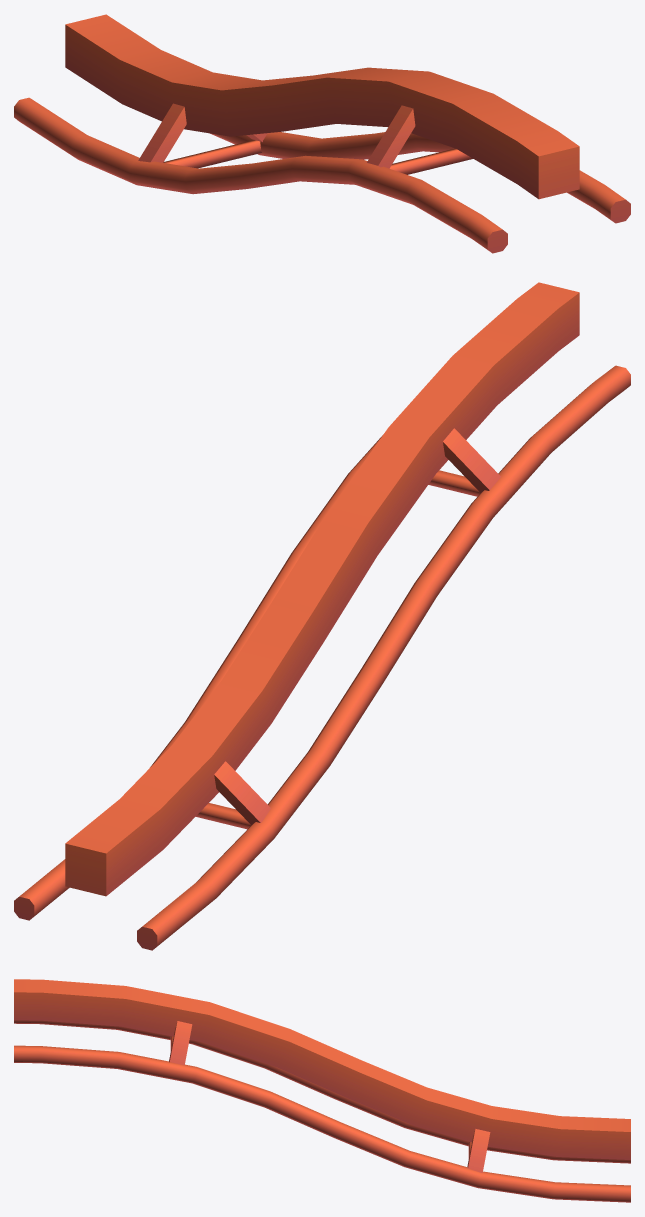
The model's file is coaster-hanging-straight-hill-complete.glb.
3 renders of one model, top to bottom at view 1: azimuth 30°, elevation 25°; view 2: azimuth 150°, elevation 25°; view 3: azimuth 270°, elevation 25°, orthographic. The views are drawn at different scales.
Visible parts, largest first — view 1: coaster-hanging-straight-hill-complete; view 2: coaster-hanging-straight-hill-complete; view 3: coaster-hanging-straight-hill-complete.
Boxes of the visible parts, box(x1,y1,x2,y2) form: coaster-hanging-straight-hill-complete: box(14, 14, 630, 253); coaster-hanging-straight-hill-complete: box(14, 282, 630, 950); coaster-hanging-straight-hill-complete: box(14, 979, 630, 1202).
Size of the model in its own units: 0.6997 by 1.4 by 4.
Materials: 1 (1 with a texture image).
